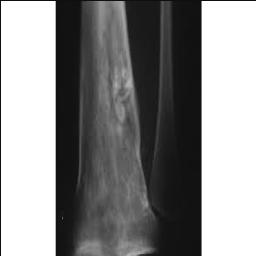cancer: (79, 0, 147, 221)
